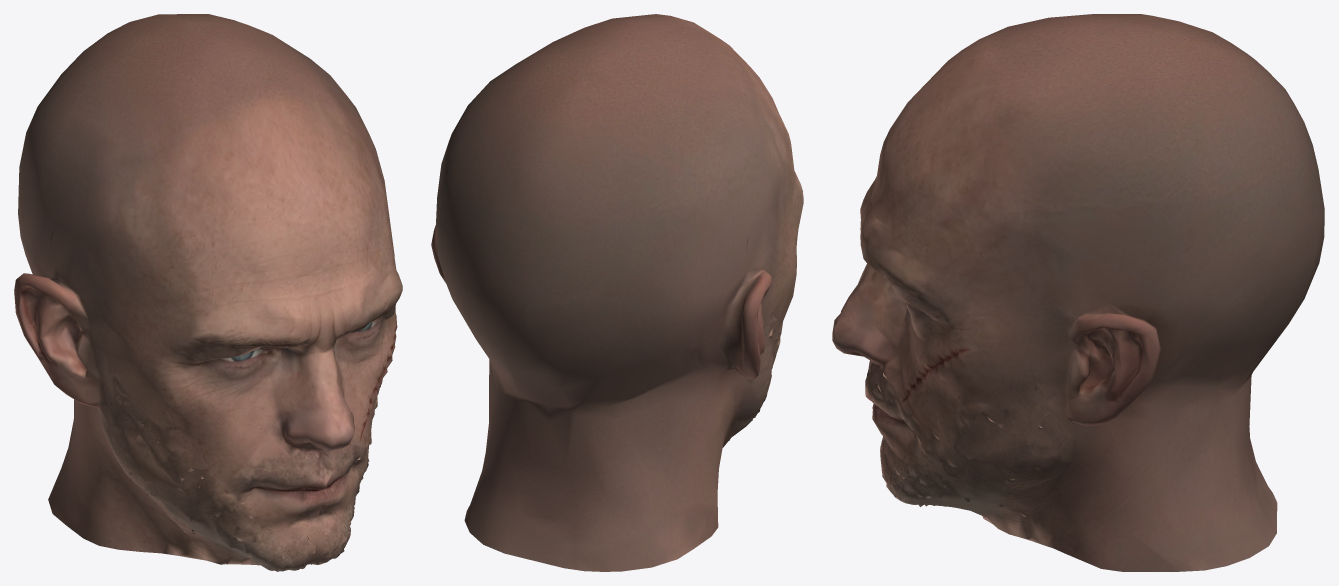
The model's file is head_5k.glb.
3 views of the same model, side by side, from view 1: azimuth 30°, elevation 25°; view 2: azimuth 150°, elevation 25°; view 3: azimuth 270°, elevation 25° (orthographic). The views are drawn at different scales.
Parts seen in each view (by area): view 1: mesh_node_Default; view 2: mesh_node_Default; view 3: mesh_node_Default.
Boxes of the visible parts, box(x1,y1,x2,y2) form: mesh_node_Default: box(14, 14, 402, 571); mesh_node_Default: box(431, 14, 803, 571); mesh_node_Default: box(832, 14, 1324, 571).
Size of the model in its own units: 0.9995 by 1.37 by 1.24.
Materials: 1 (1 with a texture image).
